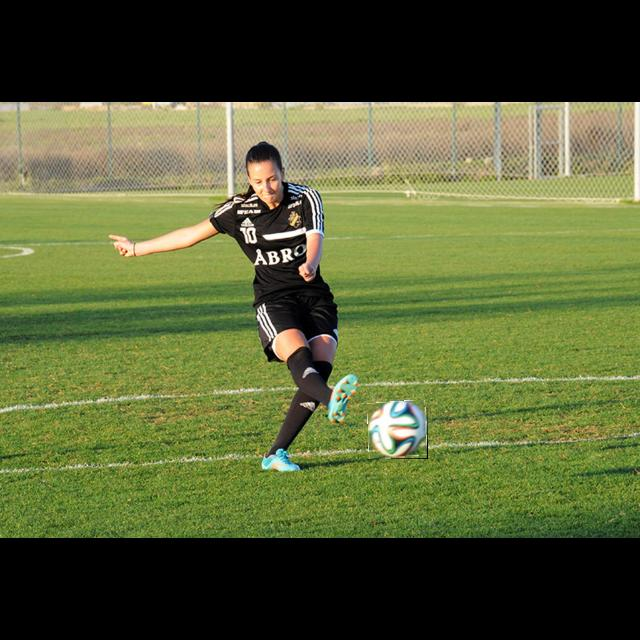Football: (368, 401, 428, 459)
